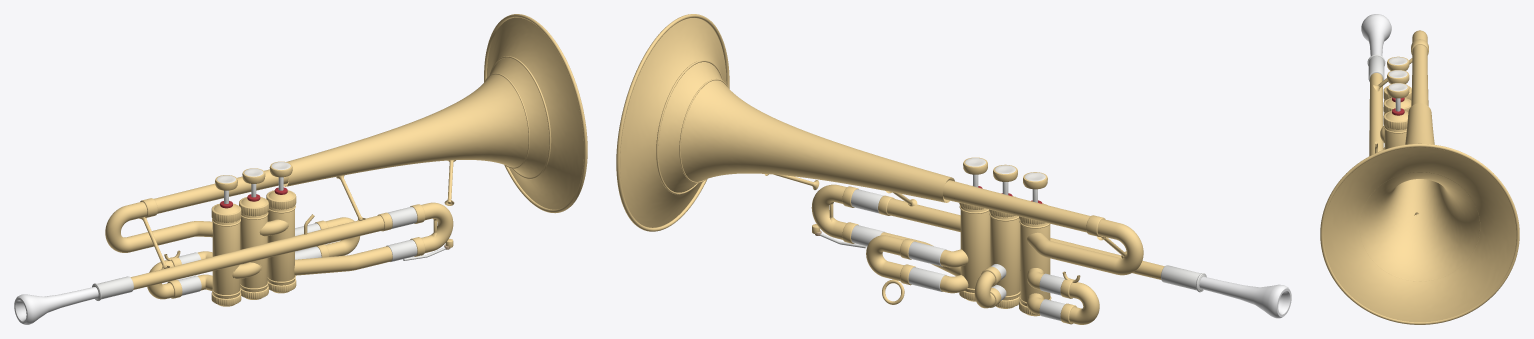
File: baritone.glb
3 renders of one model, left to right at view 1: azimuth 30°, elevation 25°; view 2: azimuth 150°, elevation 25°; view 3: azimuth 270°, elevation 25°, orthographic. The views are drawn at different scales.
Parts seen in each view (by area): view 1: Body; view 2: Body; view 3: Body, valve3, valve1, valve2.
Boxes of the visible parts, box(x1,y1,x2,y2) form: Body: box(14, 14, 587, 324); Body: box(616, 14, 1291, 324); Body: box(1320, 14, 1519, 324); valve3: box(1387, 83, 1409, 111); valve1: box(1387, 56, 1409, 70); valve2: box(1387, 70, 1409, 83).
Size of the model in its own units: 0.7974 by 0.2866 by 0.2613.
